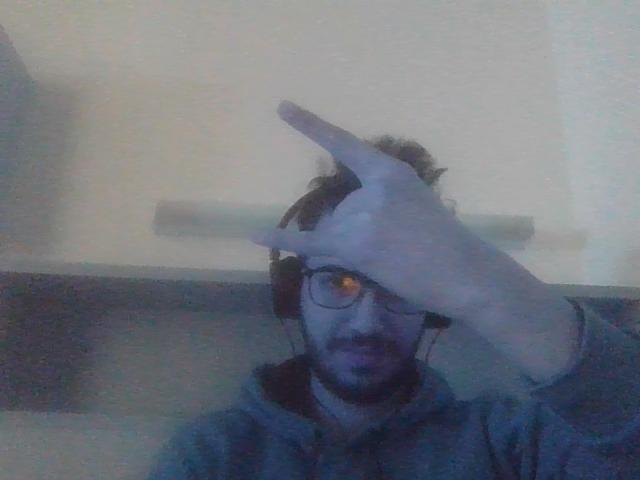iloveyou: (250, 98, 480, 320)
